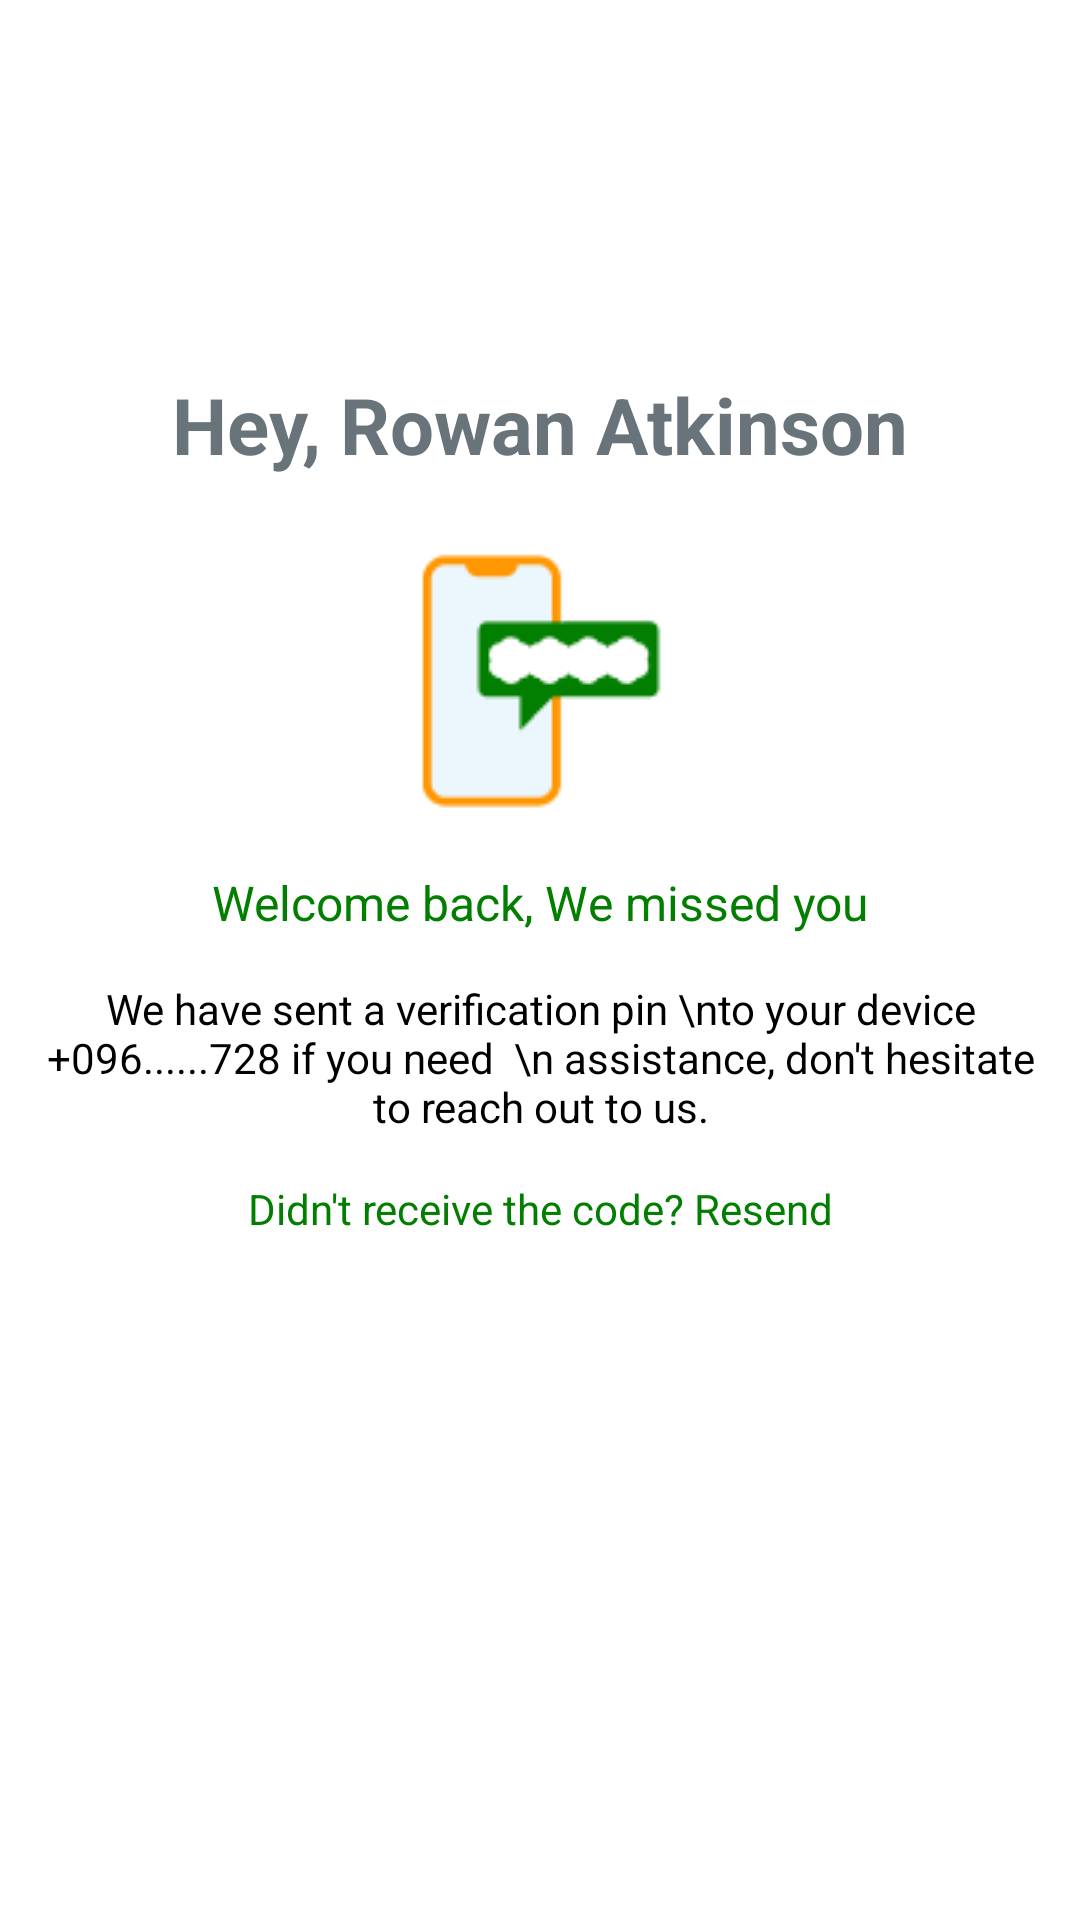

Named icons in this screenshot (1080x1920) and their centers, (x=x, y=y):
otp verification: (x=541, y=681)
